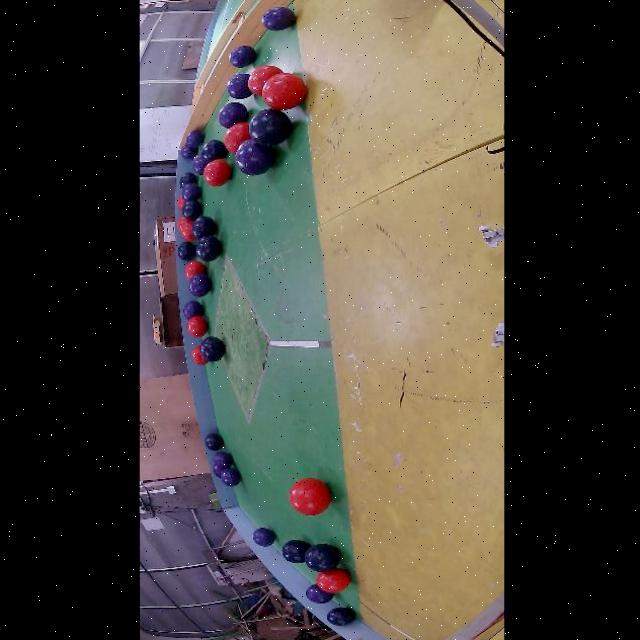B: (248, 109, 291, 147), (303, 544, 340, 572), (194, 235, 221, 262), (281, 539, 310, 563), (199, 337, 224, 362), (201, 139, 226, 162), (191, 216, 216, 239), (326, 606, 355, 625), (181, 200, 202, 220), (203, 433, 222, 451), (177, 242, 195, 261), (178, 172, 196, 189)
P: (234, 139, 274, 176), (217, 103, 248, 129), (260, 8, 294, 30), (226, 73, 251, 99), (227, 46, 255, 68), (188, 273, 211, 297), (305, 584, 332, 604), (251, 528, 274, 547), (182, 300, 203, 319), (220, 468, 240, 487), (212, 451, 232, 470), (184, 130, 203, 148), (181, 184, 201, 201), (191, 154, 207, 175), (179, 144, 197, 159), (211, 465, 222, 477)
